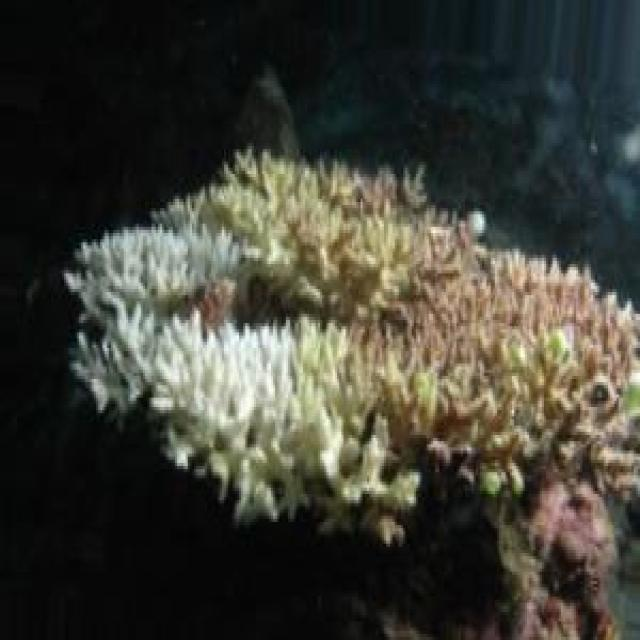bleached coral: (75, 309, 322, 483), (65, 181, 240, 372)
healthy coral: (399, 209, 634, 420)
